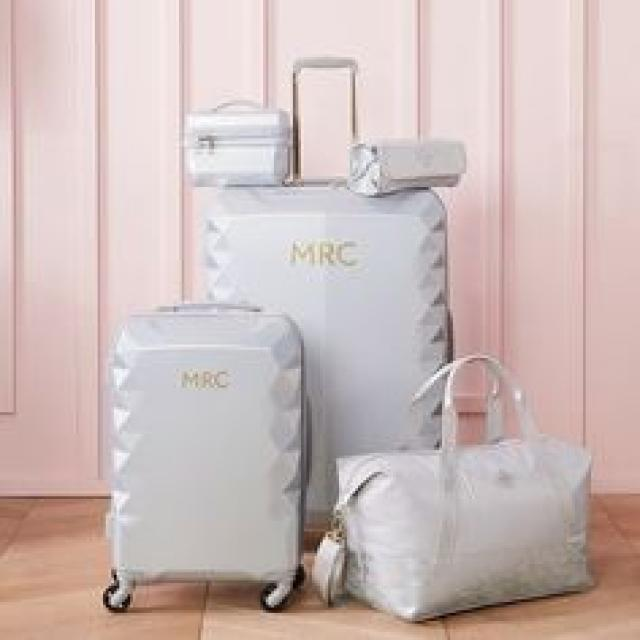handbag: (309, 353, 597, 621), (179, 92, 296, 186), (343, 133, 474, 200)
